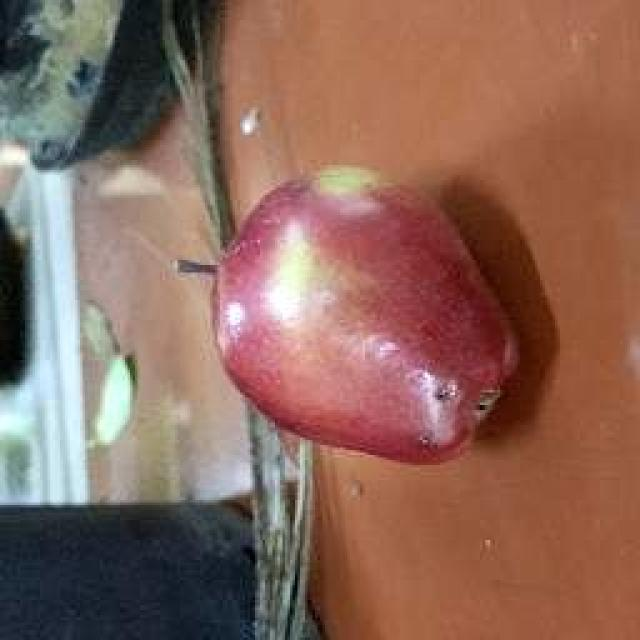Good_Apple: (210, 168, 522, 468)
